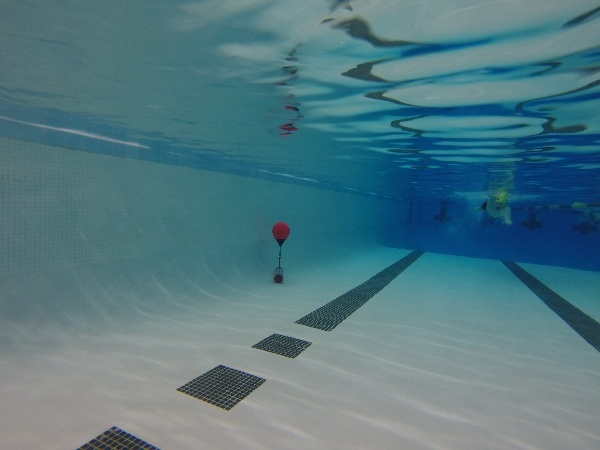buoy_red: (270, 219, 292, 249)
